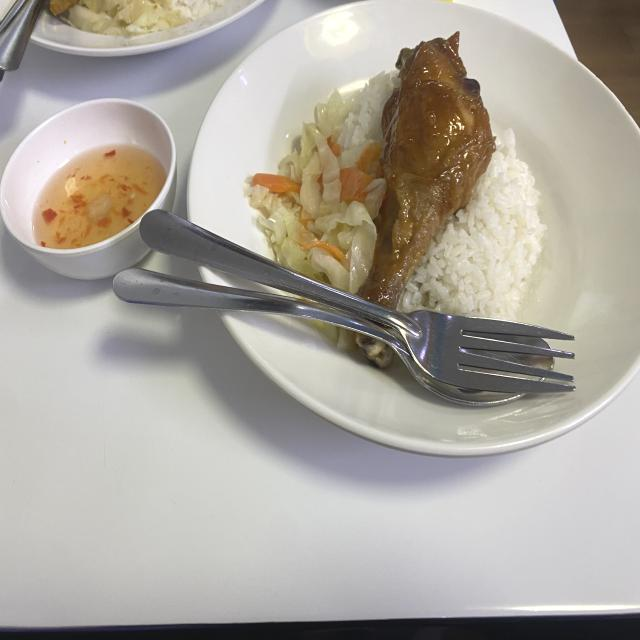bap cai xao: (245, 92, 386, 293)
com: (399, 128, 547, 320)
ga chien: (360, 32, 495, 308)
nuoc mam: (33, 146, 166, 249)
